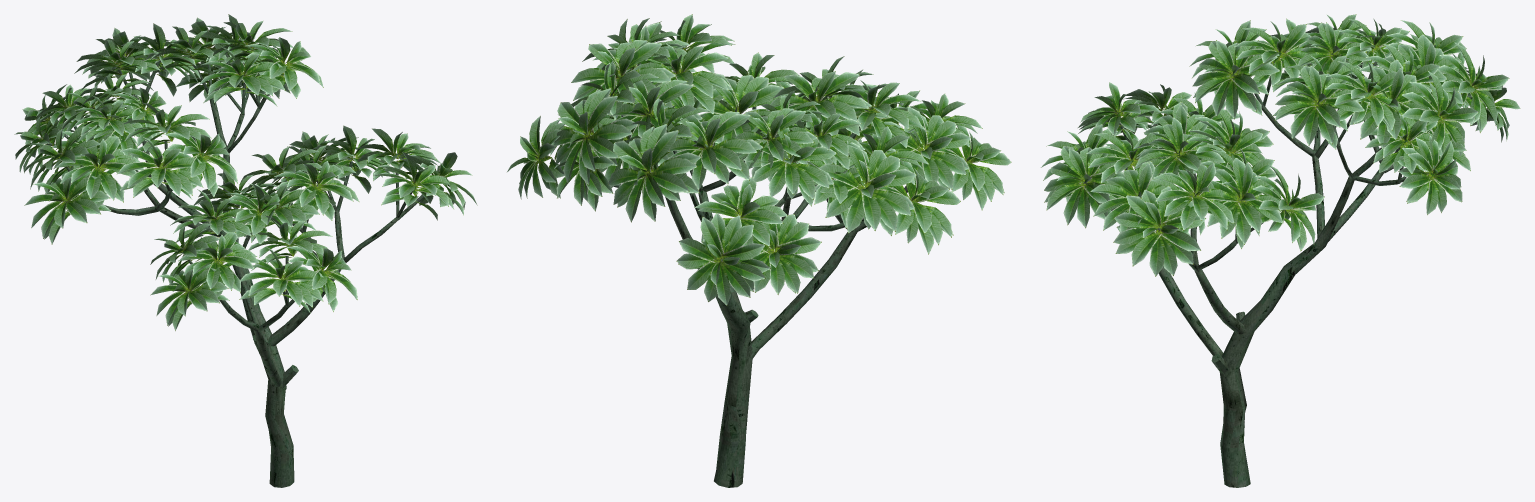
The model's file is jasmin.glb.
3 renders of one model, left to right at view 1: azimuth 30°, elevation 25°; view 2: azimuth 150°, elevation 25°; view 3: azimuth 270°, elevation 25°, orthographic. The views are drawn at different scales.
Visible parts, largest first — view 1: node8.001, node5.001, node9.001, node7.001, node6.001, node11.001, node10.001; view 2: node5.001, node6.001, node7.001, node9.001, node10.001, node11.001, node8.001; view 3: node8.001, node6.001, node9.001, node11.001, node5.001, node7.001, node10.001.
Part boxes in pixels (<box>): node8.001: <box>73,47,472,325</box>; node5.001: <box>24,14,355,239</box>; node9.001: <box>113,21,477,326</box>; node7.001: <box>14,62,359,307</box>; node6.001: <box>19,21,395,238</box>; node11.001: <box>46,56,423,487</box>; node10.001: <box>25,31,417,330</box>; node5.001: <box>556,61,949,254</box>; node6.001: <box>507,18,951,293</box>; node7.001: <box>661,46,930,305</box>; node9.001: <box>528,22,987,210</box>; node10.001: <box>608,42,1011,272</box>; node11.001: <box>549,63,907,487</box>; node8.001: <box>590,14,1003,201</box>; node8.001: <box>1044,14,1421,276</box>; node6.001: <box>1157,21,1470,238</box>; node9.001: <box>1046,41,1454,266</box>; node11.001: <box>1083,52,1428,487</box>; node5.001: <box>1186,18,1509,184</box>; node7.001: <box>1041,18,1520,195</box>; node10.001: <box>1044,19,1500,233</box>.
Size of the model in its own units: 6.91 by 7.54 by 7.52.
2 materials, 2 textured.
